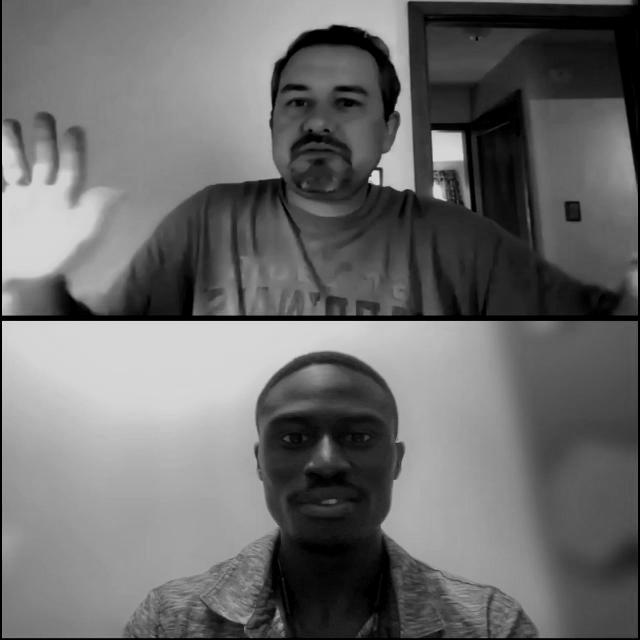real: (251, 365, 404, 550), (266, 43, 396, 196)
